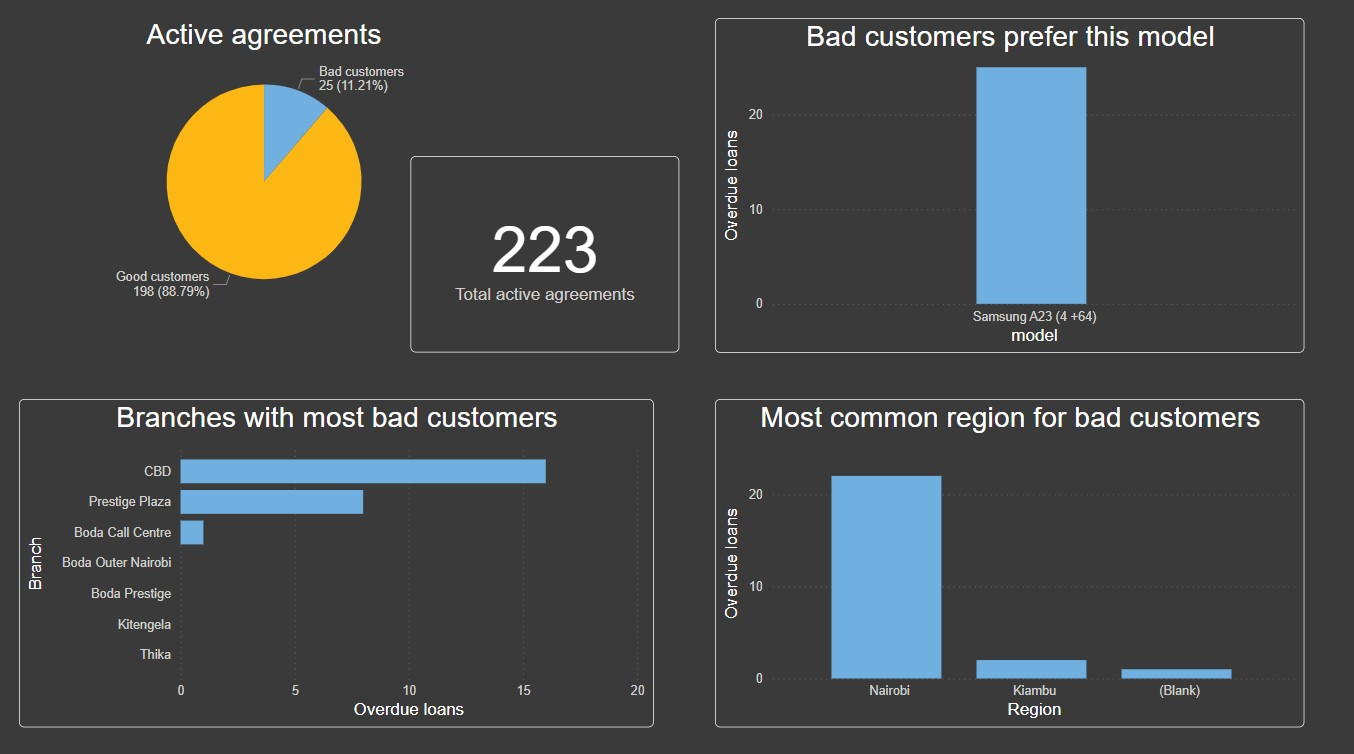

What the dashboard file says about the page in this screenshot:
{"tool":"powerbi","page":{"name":"Bad customers","canvas":[1280,720],"ordinal":0},"visuals":[{"type":"pieChart","title":"Active agreements","fields":{"Y":["Sum(Agreements.bad_customer)","Agreements.Total agreements without bad customers"]},"box":[19.7,22.7,460.3,278.6],"z":0},{"type":"card","fields":{"Values":["Agreements.Total agreements"]},"box":[387.6,152.9,252.9,184.7],"z":1000},{"type":"columnChart","title":"Bad customers prefer this model","fields":{"Category":["Agreements.model"],"Y":["Sum(Agreements.bad_customer)"]},"box":[673.8,22.7,554.2,315],"z":2000},{"type":"columnChart","title":"Most common region for bad customers","fields":{"Category":["Agreements.Region"],"Y":["Sum(Agreements.bad_customer)"]},"box":[673.8,380.1,554.2,308.9],"z":3000},{"type":"clusteredBarChart","title":"Branches with most bad customers","fields":{"Y":["Sum(Agreements.bad_customer)"],"Category":["Agreements.Branch"]},"box":[19.7,380.1,596.6,308.9],"z":3001}]}

Visuals, with their boxes in screenshot pixels (x1, y1, x2, y2), scaled from the page's 1280x720 canvas onto the 1354x754 screenshot:
"Active agreements" pieChart: [x1=21, y1=24, x2=508, y2=316]
card - Agreements.Total agreements: [x1=410, y1=160, x2=678, y2=354]
"Bad customers prefer this model" columnChart: [x1=713, y1=24, x2=1299, y2=354]
"Most common region for bad customers" columnChart: [x1=713, y1=398, x2=1299, y2=722]
"Branches with most bad customers" clusteredBarChart: [x1=21, y1=398, x2=652, y2=722]
